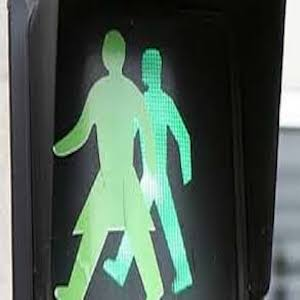green: (64, 24, 188, 291)
